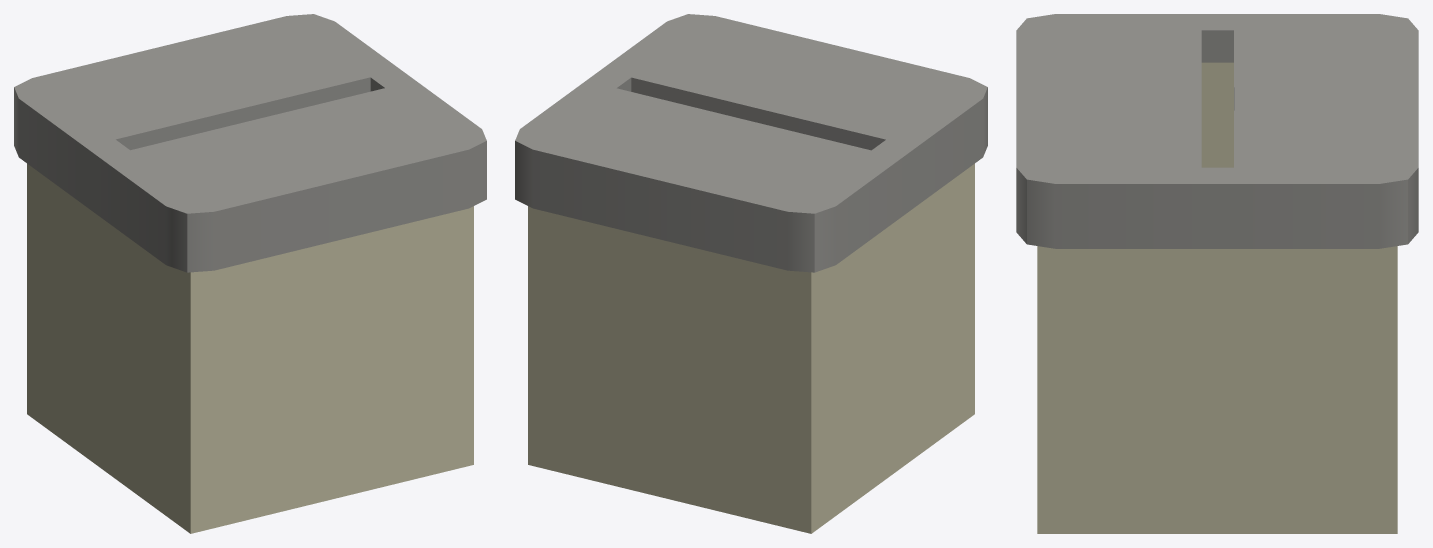
File: paperBox.fbx
3 views of the same model, side by side, from view 1: azimuth 30°, elevation 25°; view 2: azimuth 150°, elevation 25°; view 3: azimuth 270°, elevation 25° (orthographic). The views are drawn at different scales.
Parts seen in each view (by area): view 1: pCube1; view 2: pCube1; view 3: pCube1.
Boxes of the visible parts, x1,y1,x2,y2 form: pCube1: (14,14,486,533); pCube1: (515,14,987,533); pCube1: (1016,14,1418,533).
Size of the model in its own units: 1.12 by 1.1 by 1.12.
